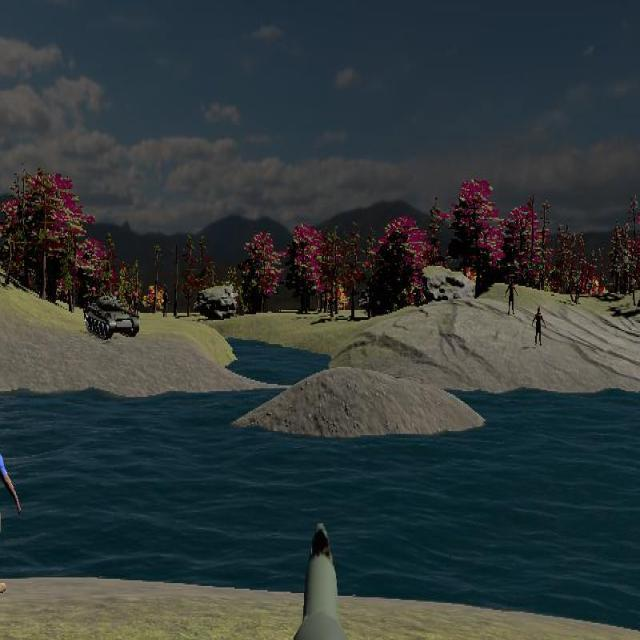Human: (0, 409, 22, 600)
Tank: (85, 294, 139, 341)
